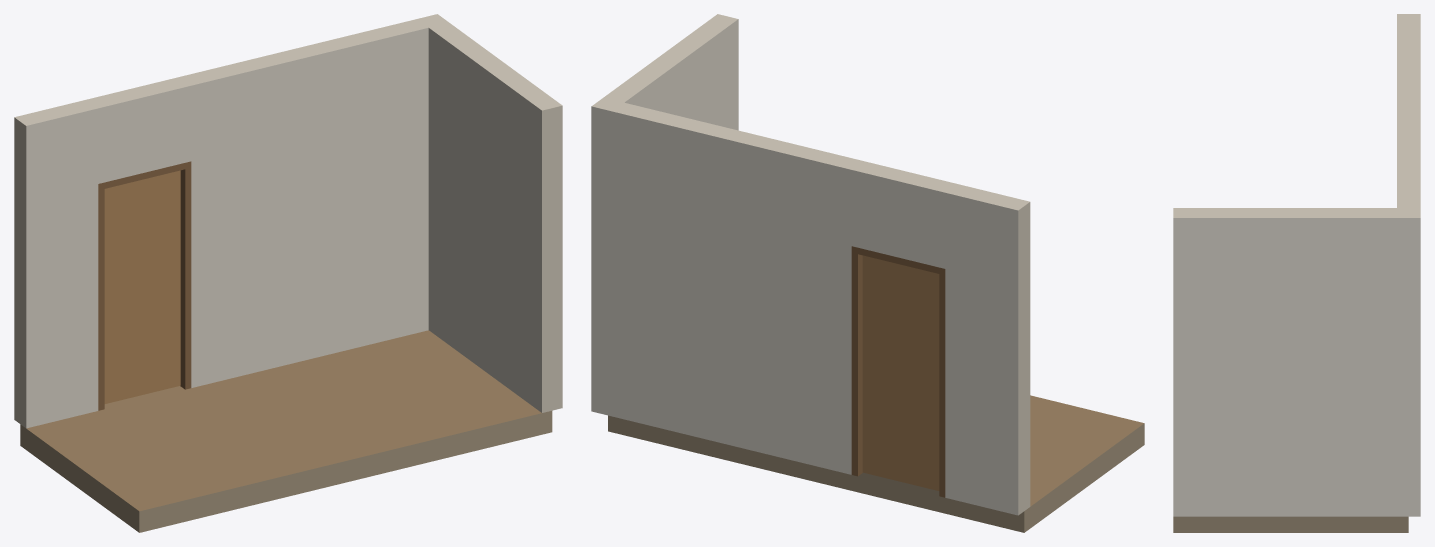
Rendered from pathtrace-environment.glb.
3 views of the same model, side by side, from view 1: azimuth 30°, elevation 25°; view 2: azimuth 150°, elevation 25°; view 3: azimuth 270°, elevation 25° (orthographic). The views are drawn at different scales.
Visible parts, largest first — view 1: Surface_wall_muskidtq_5, Surface_slab_muskidyx_b, Surface_wall_muskiduk_8, DoorPanel_door_muskie28_e, FrameRight_door_muskie28_e, FrameLeft_door_muskie28_e; view 2: Surface_wall_muskidtq_5, DoorPanel_door_muskie28_e, Surface_slab_muskidyx_b, Surface_wall_muskiduk_8, FrameRight_door_muskie28_e, FrameLeft_door_muskie28_e; view 3: Surface_wall_muskiduk_8, Surface_wall_muskidtq_5, Surface_slab_muskidyx_b.
Boxes of the visible parts, x1,y1,x2,y2 form: Surface_wall_muskidtq_5: (14, 14, 448, 428); Surface_slab_muskidyx_b: (20, 330, 552, 532); Surface_wall_muskiduk_8: (428, 22, 562, 412); DoorPanel_door_muskie28_e: (104, 170, 180, 403); FrameRight_door_muskie28_e: (180, 161, 191, 389); FrameLeft_door_muskie28_e: (98, 182, 104, 410); Surface_wall_muskidtq_5: (591, 97, 1030, 515); DoorPanel_door_muskie28_e: (862, 255, 939, 490); Surface_slab_muskidyx_b: (608, 395, 1144, 532); Surface_wall_muskiduk_8: (604, 14, 738, 130); FrameRight_door_muskie28_e: (851, 246, 862, 476); FrameLeft_door_muskie28_e: (939, 267, 945, 497); Surface_wall_muskiduk_8: (1173, 208, 1420, 516); Surface_wall_muskidtq_5: (1397, 14, 1420, 217); Surface_slab_muskidyx_b: (1173, 516, 1408, 532).
Size of the model in its own units: 4.1 by 3 by 2.1.
